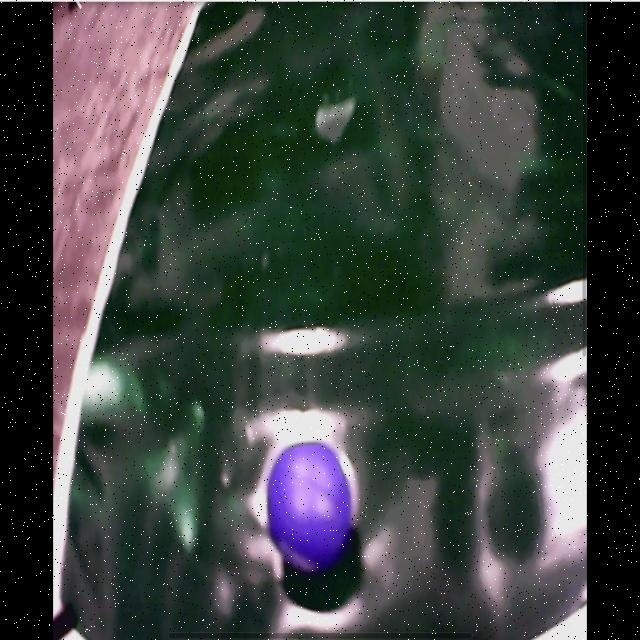ball: (269, 441, 351, 572)
